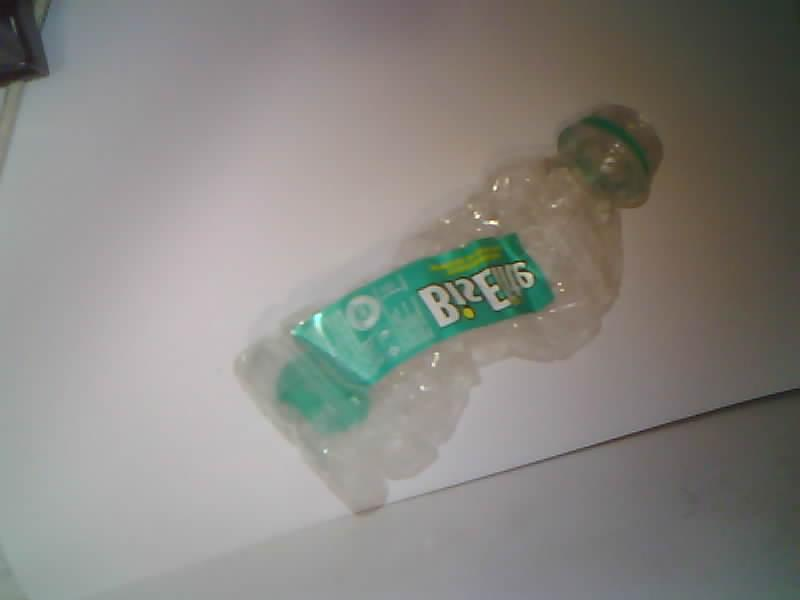non-biodegradable: (236, 113, 652, 510)
